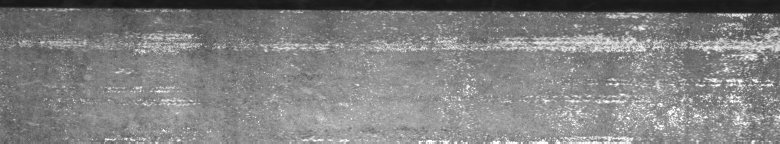kb: (4, 4, 776, 134)
